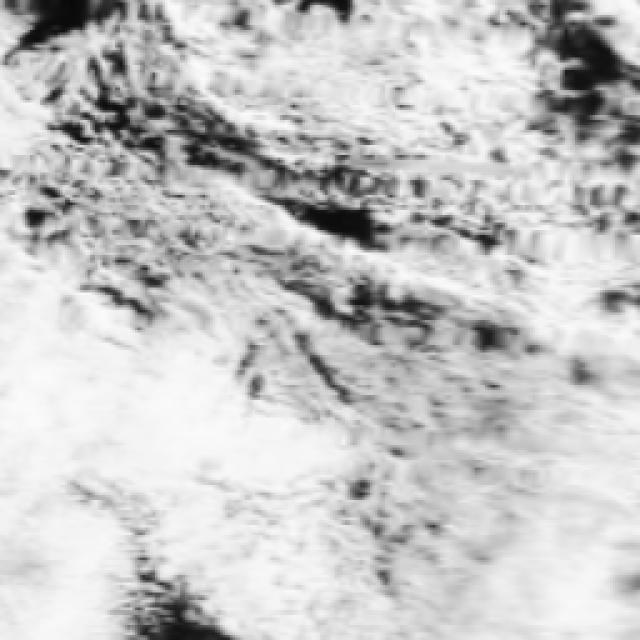CB: (65, 342, 226, 496), (0, 299, 102, 501), (202, 476, 348, 606), (0, 509, 126, 640)
